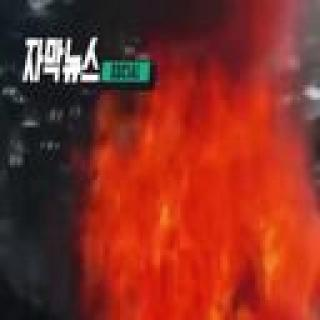fire: (107, 91, 291, 320)
